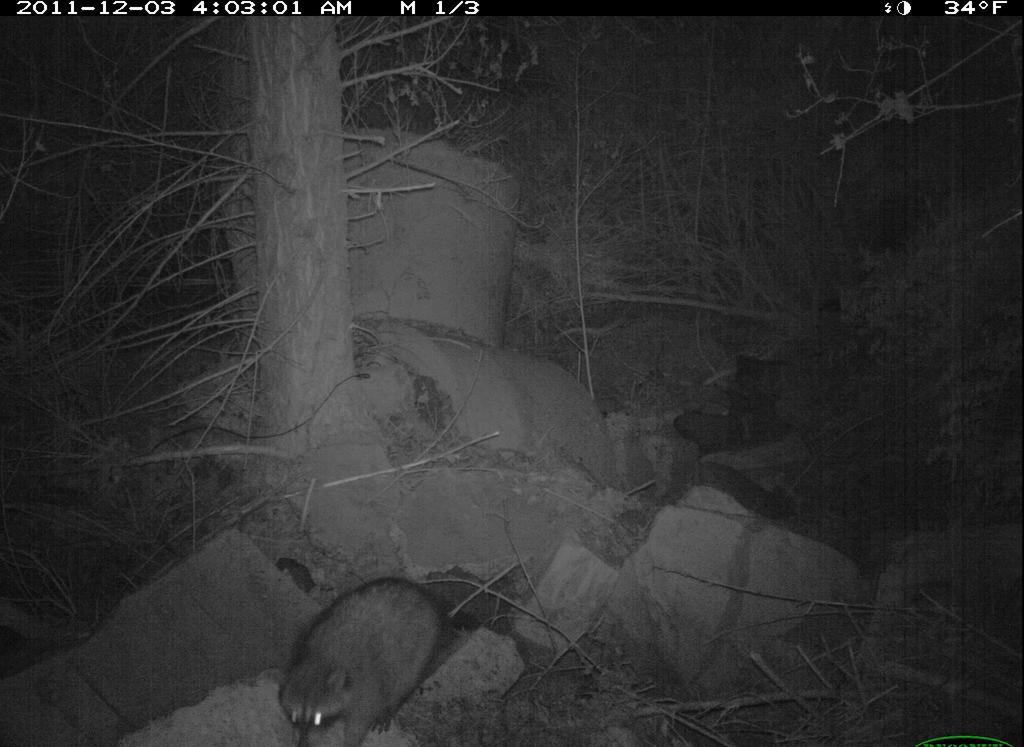raccoon: (277, 568, 459, 747)
